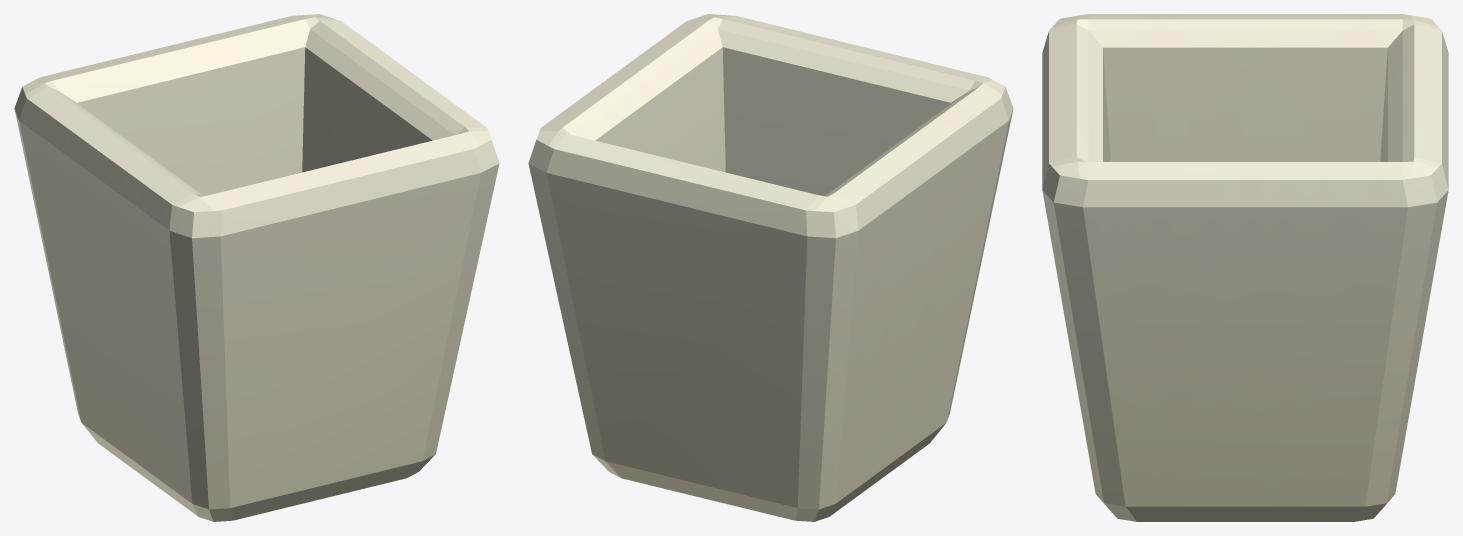
The model's file is PlantPot_06.fbx.
3 views of the same model, side by side, from view 1: azimuth 30°, elevation 25°; view 2: azimuth 150°, elevation 25°; view 3: azimuth 270°, elevation 25° (orthographic). The views are drawn at different scales.
Visible parts, largest first — view 1: PlantPot_06; view 2: PlantPot_06; view 3: PlantPot_06.
Part boxes in pixels (x1=…): PlantPot_06: x1=14, y1=14, x2=499, y2=521; PlantPot_06: x1=528, y1=14, x2=1013, y2=521; PlantPot_06: x1=1042, y1=14, x2=1448, y2=521.
Size of the model in its own units: 16.63 by 16.9 by 16.63.
